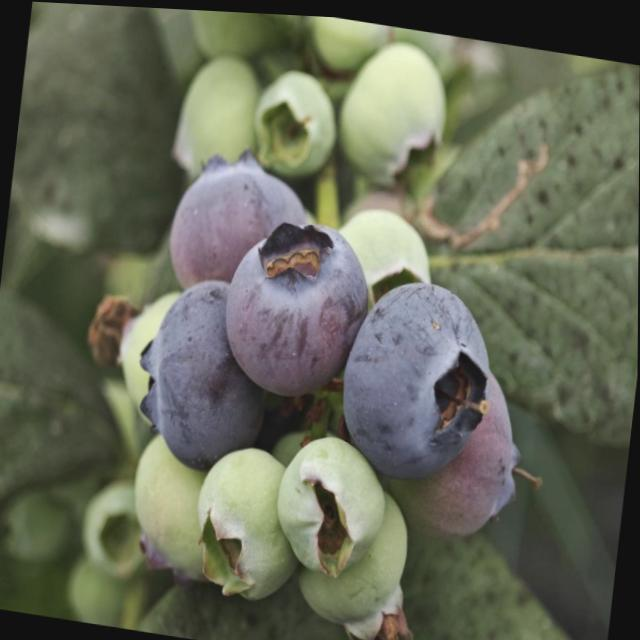RipeBlueBerry: (331, 262, 503, 491), (129, 263, 285, 479)
Semi-RipeBlueBerry: (213, 203, 378, 410)
